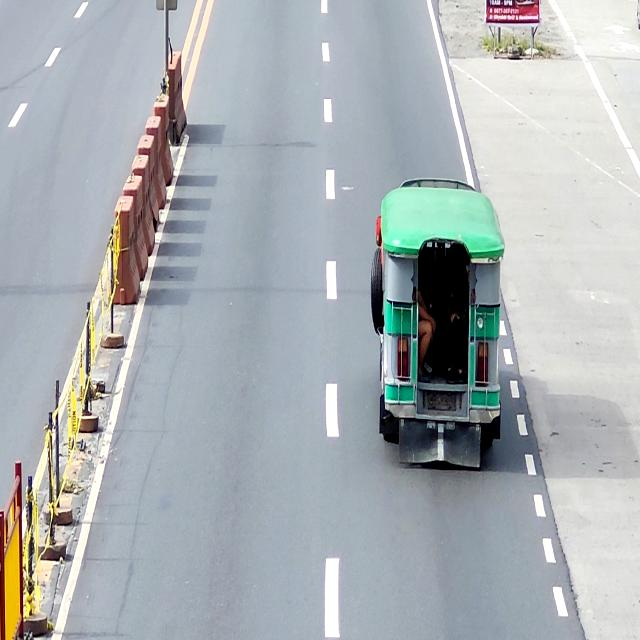Jeep: (370, 177, 505, 470)
License-Plate: (422, 389, 458, 413)
